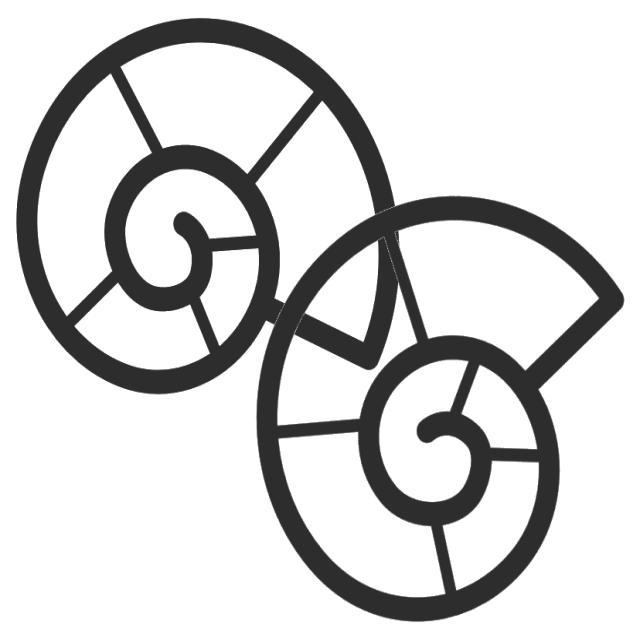fossil: (250, 183, 629, 631), (11, 13, 412, 422)
